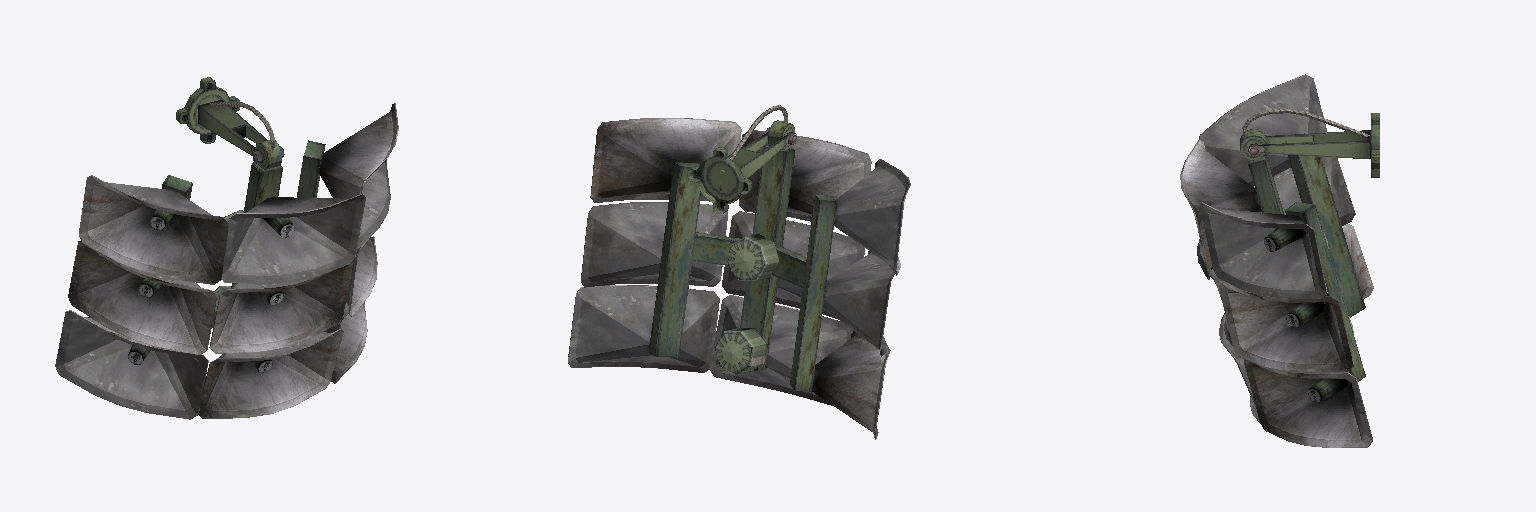
The picture shows the model from 3 angles: view 1: azimuth 30°, elevation 25°; view 2: azimuth 150°, elevation 25°; view 3: azimuth 270°, elevation 25°; orthographic projection.
Visible parts, largest first — view 1: UCX_Tannoy_Speaker_Many; view 2: UCX_Tannoy_Speaker_Many; view 3: UCX_Tannoy_Speaker_Many.
Boxes of the visible parts, box(x1,y1,x2,y2) form: UCX_Tannoy_Speaker_Many: box(55, 77, 398, 419); UCX_Tannoy_Speaker_Many: box(568, 105, 910, 439); UCX_Tannoy_Speaker_Many: box(1180, 74, 1379, 447).
Bounding box in the file's own units: 151 × 138 × 84.89.
Materials: 1 (1 with a texture image).